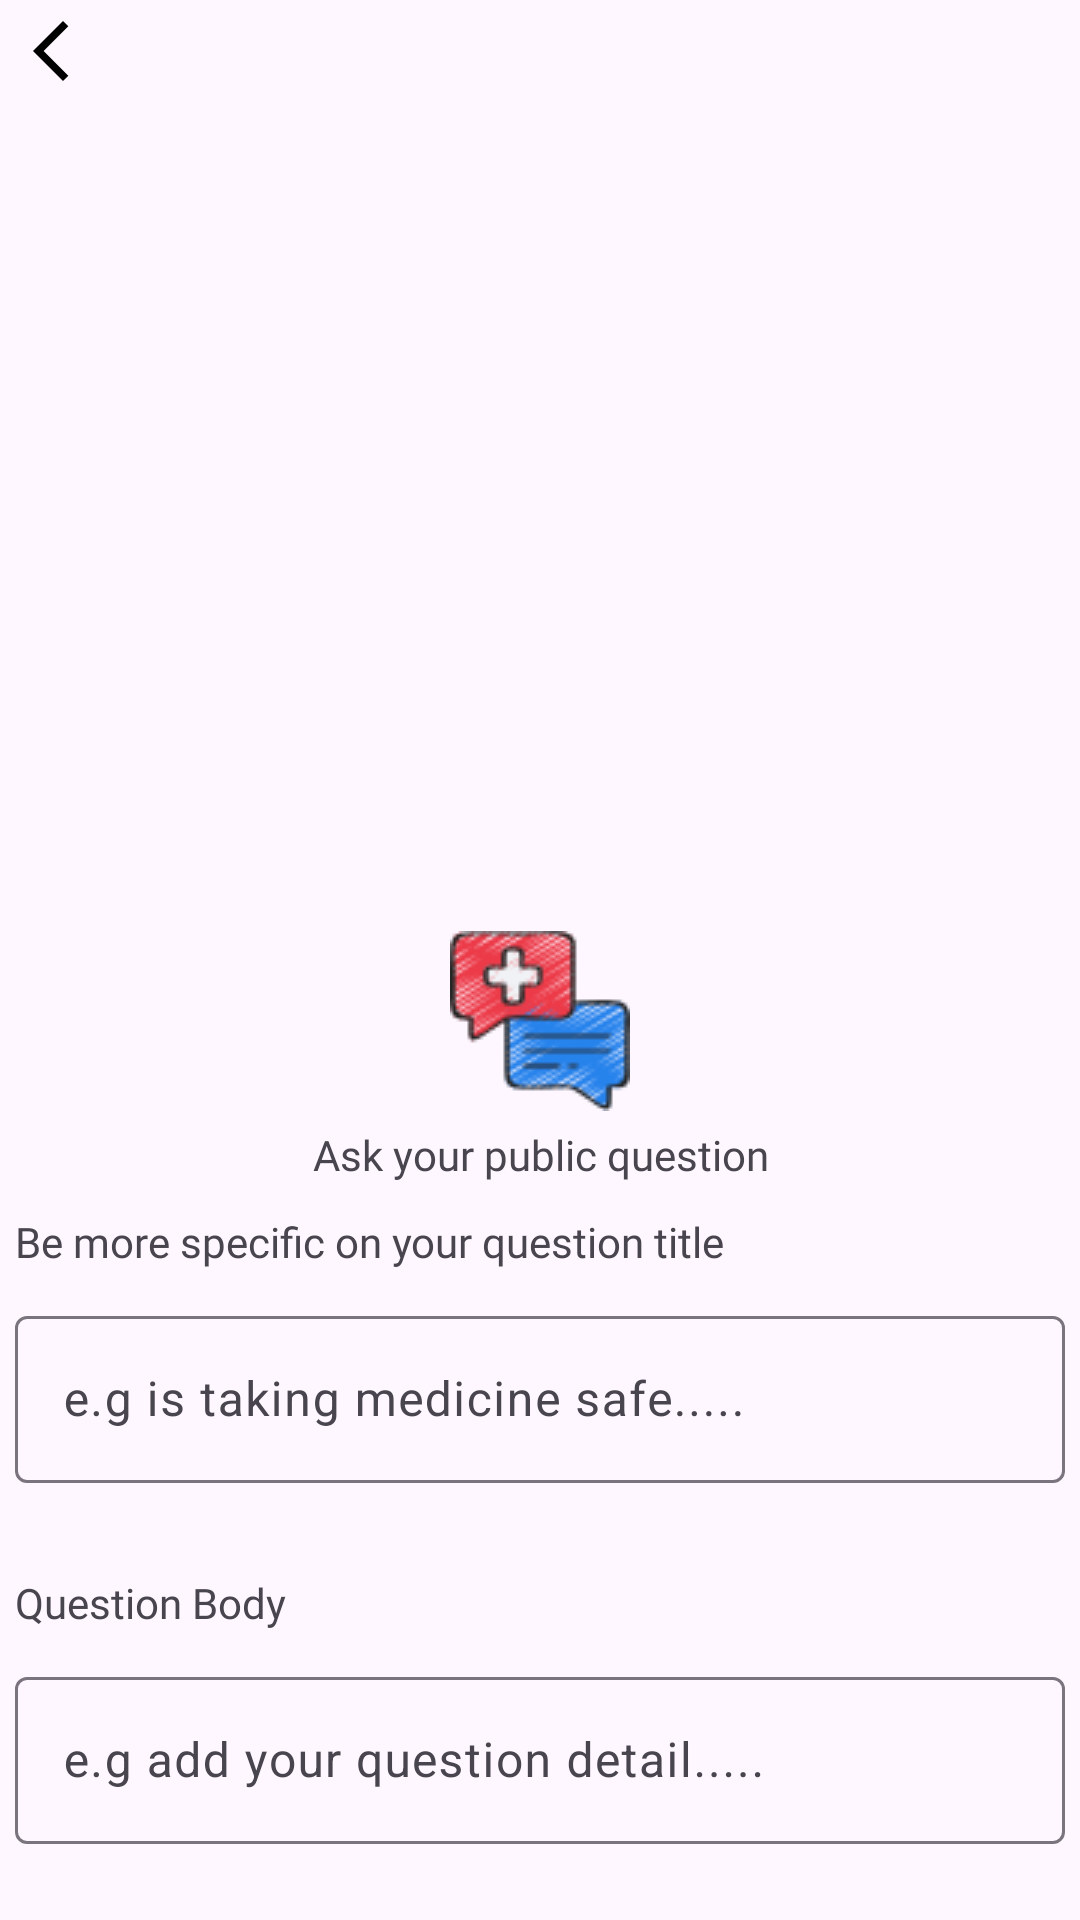

Icon bounding boxes for this 1080*1920 phone screenshot, format (x1, y1, x2, y2):
back button: (33, 21, 68, 81)
